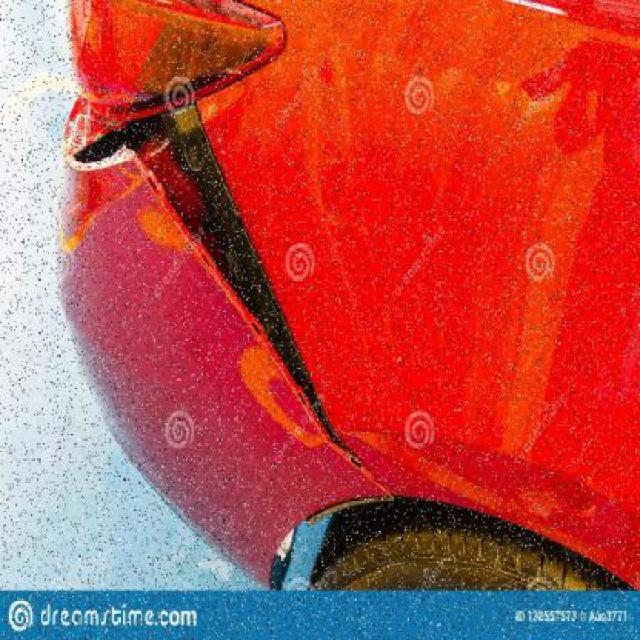rear-bumper-dent: (17, 66, 389, 527)
